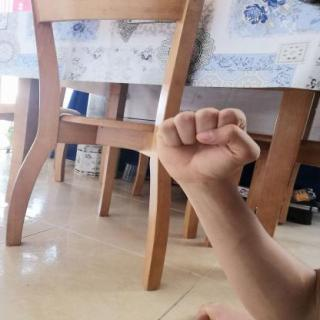SAD: (142, 97, 276, 199)
